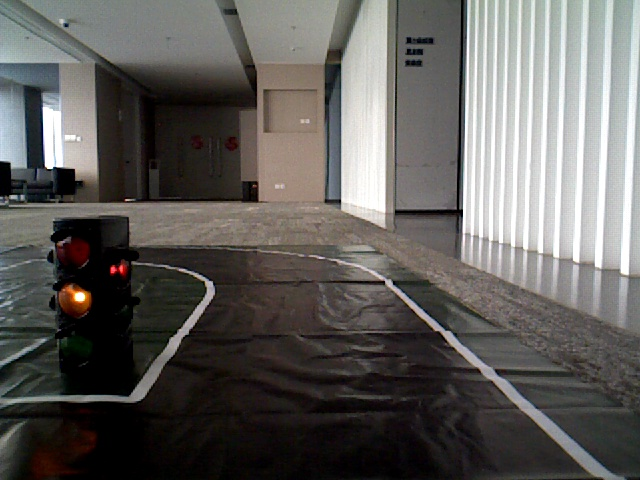yellow: (50, 229, 109, 366)
